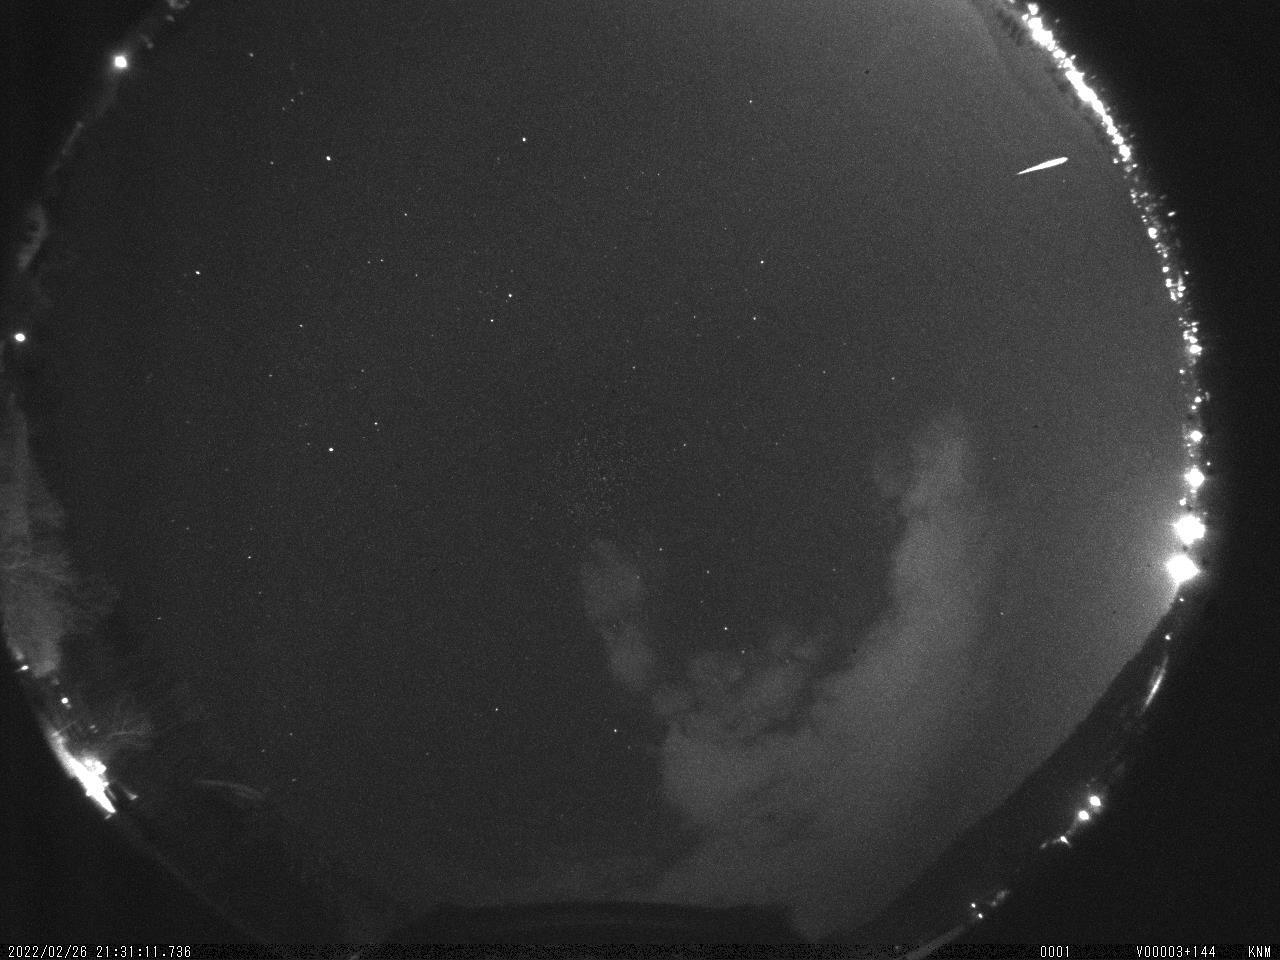Meteor: (1011, 152, 1070, 178)
